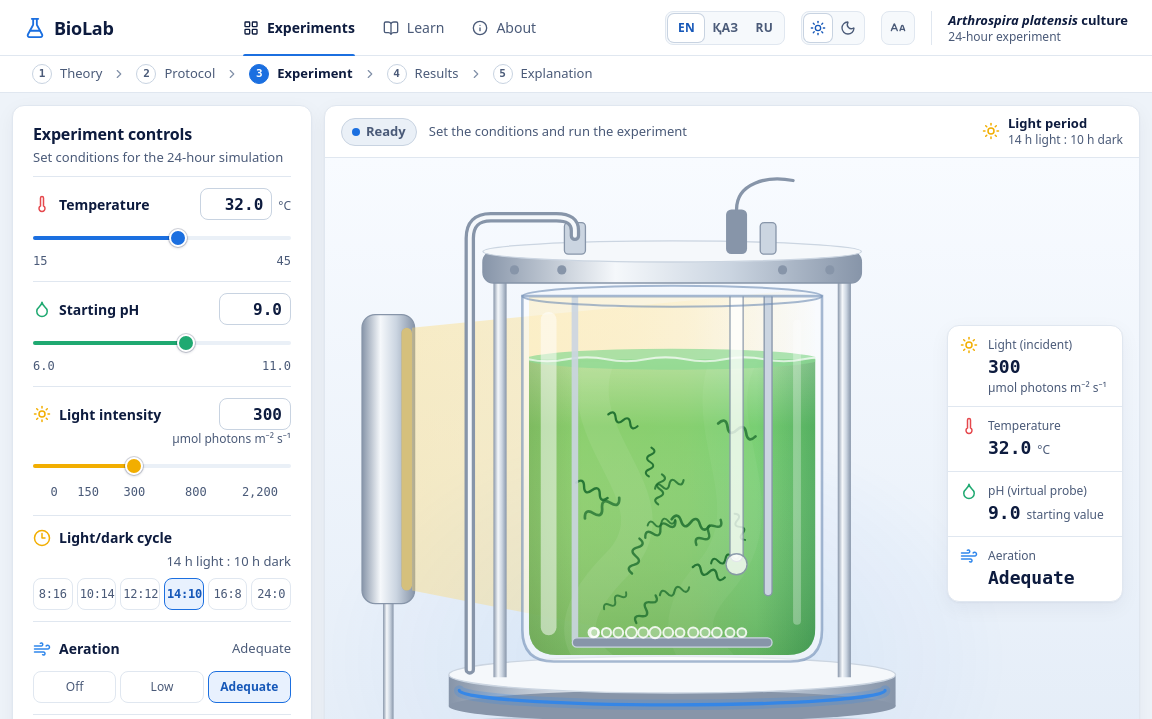
Scenario: learning layer (PRD-0003 §1–§8) › W21 the knowledge check answers immediately with Correct or Try again
Click the link "Learn" at x=414, y=28, box [383,18,444,37]
(page scrolled)
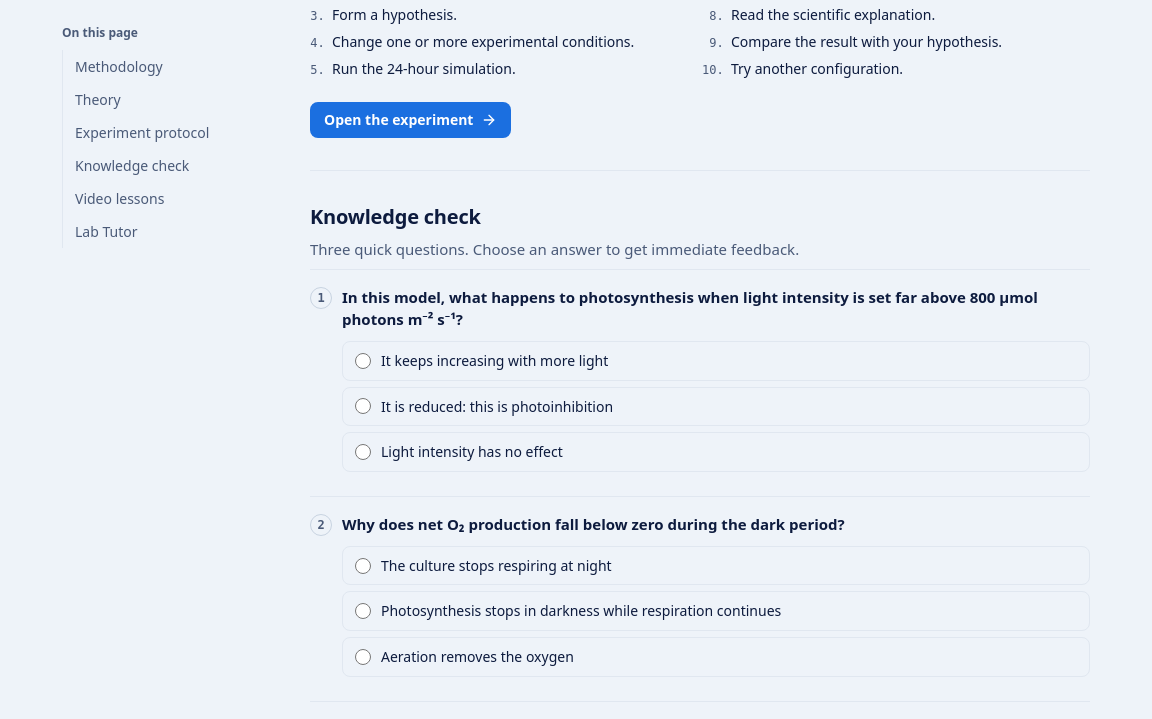
Click the radio button labelled "It keeps increasing with more light" at x=363, y=361, box [355,353,371,369]
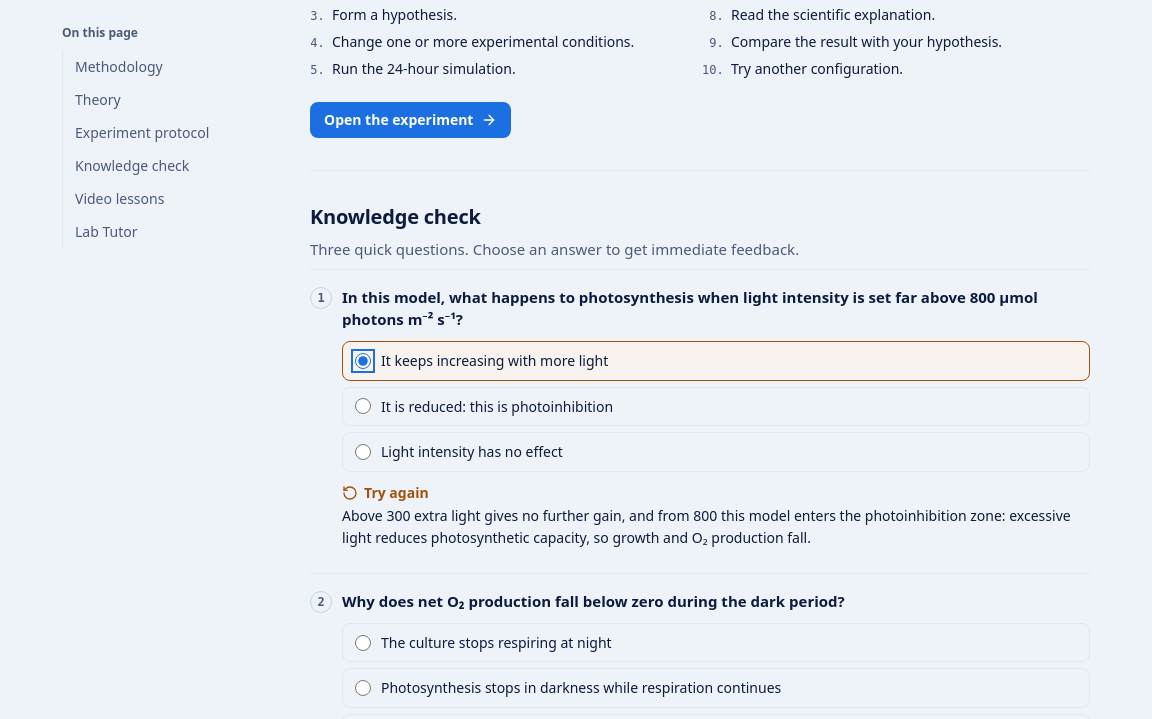
expect the message shows "Try again": met, box [364,483,429,502]
Click the radio button labelled "It is reduced: this is photoinhibition" at x=363, y=406, box [355,398,371,414]
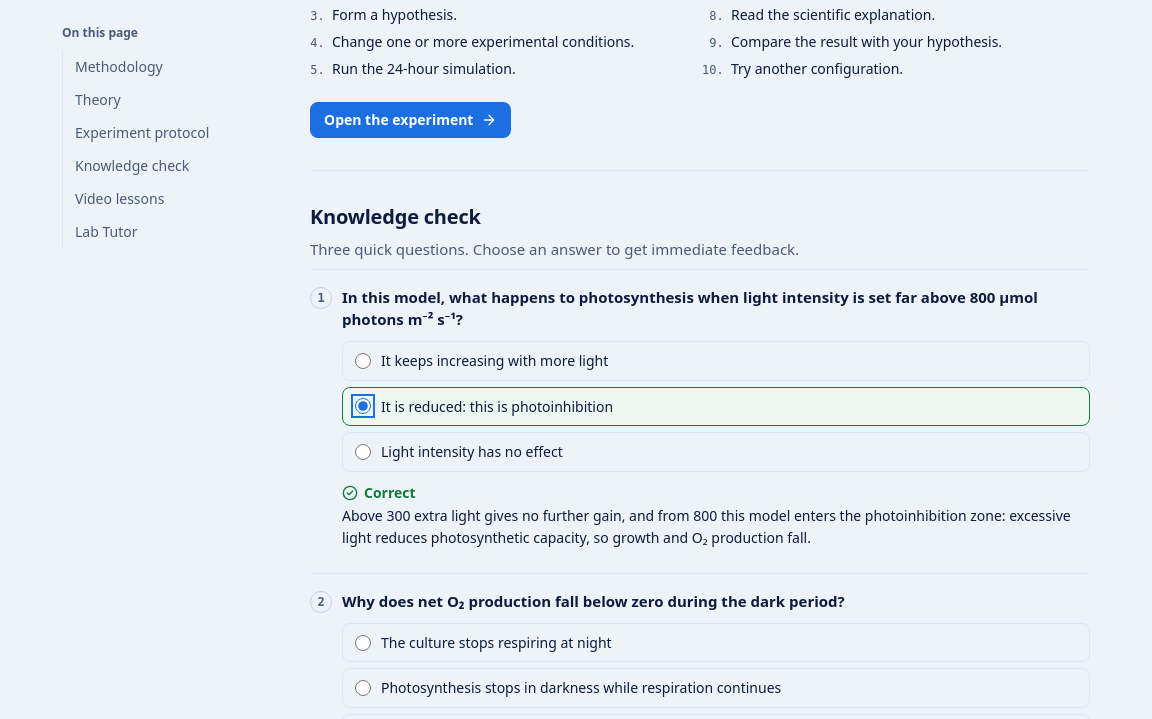
expect the message shows "800": met, box [342,506,1071,547]
expect the message shows "Correct": met, box [364,483,416,502]
